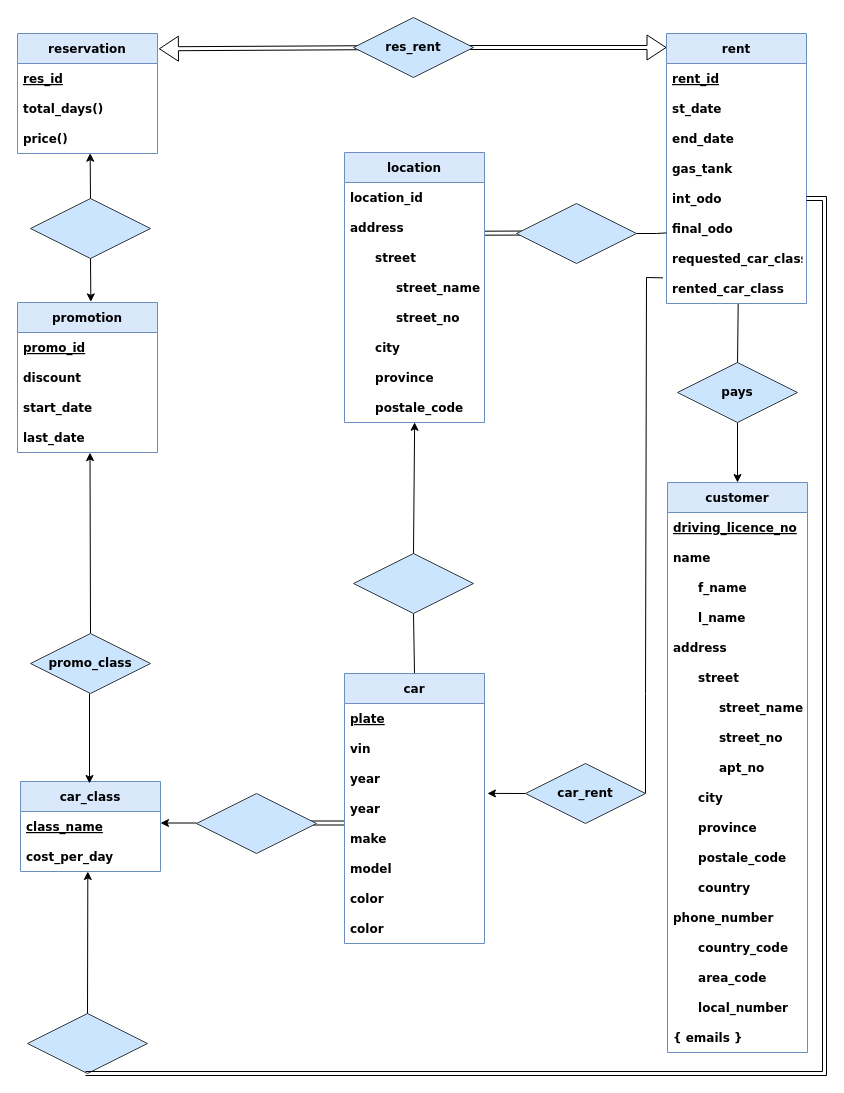
This 844x1093 diagram has some shape labels left out. The shapes that lost their labels are listed below. From the top down, each one's centre as x and y in pixels, then its label:
point (90, 228): promo_res
point (576, 233): loc_rent
point (413, 583): car_location
point (256, 823): belongs to
point (87, 1043): car_class_rent
